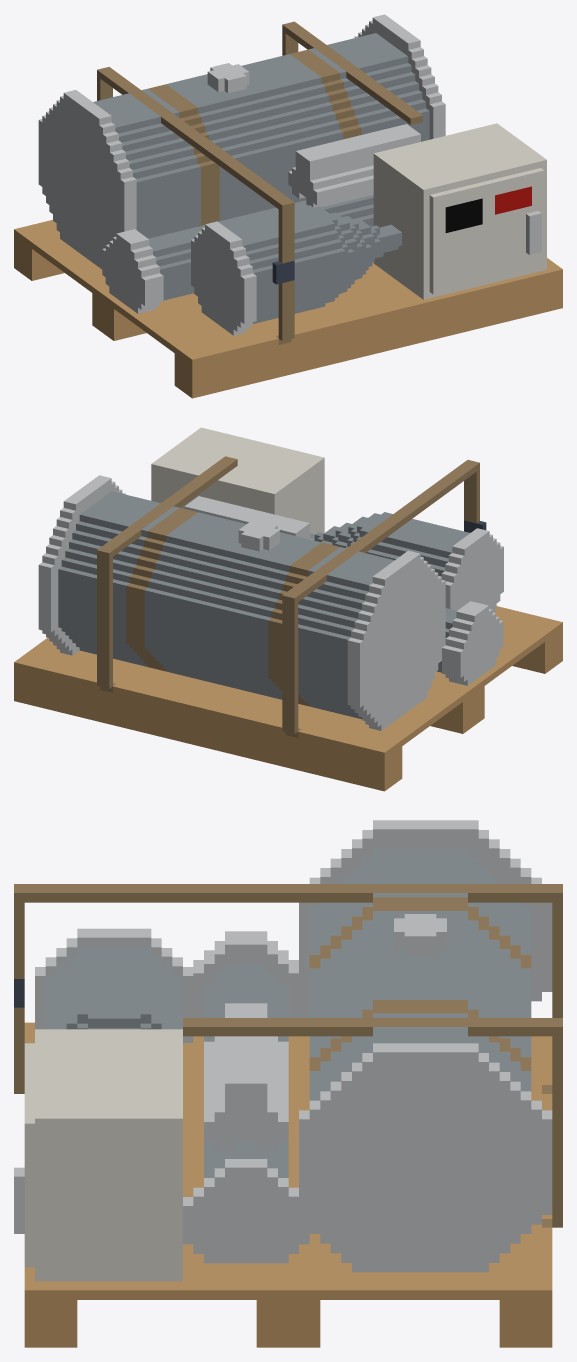
File: catalytic_cracking_reactor.glb
3 renders of one model, top to bottom at view 1: azimuth 30°, elevation 25°; view 2: azimuth 150°, elevation 25°; view 3: azimuth 270°, elevation 25°, orthographic. The views are drawn at different scales.
Parts seen in each view (by area): view 1: catalytic_cracking_reactor:compound; view 2: catalytic_cracking_reactor:compound; view 3: catalytic_cracking_reactor:compound.
Boxes of the visible parts, left/top/right/bottom form: catalytic_cracking_reactor:compound: left=14, top=14, right=562, bottom=398; catalytic_cracking_reactor:compound: left=14, top=427, right=562, bottom=791; catalytic_cracking_reactor:compound: left=14, top=820, right=562, bottom=1347.
Size of the model in its own units: 1.2 by 0.58 by 1.04.
